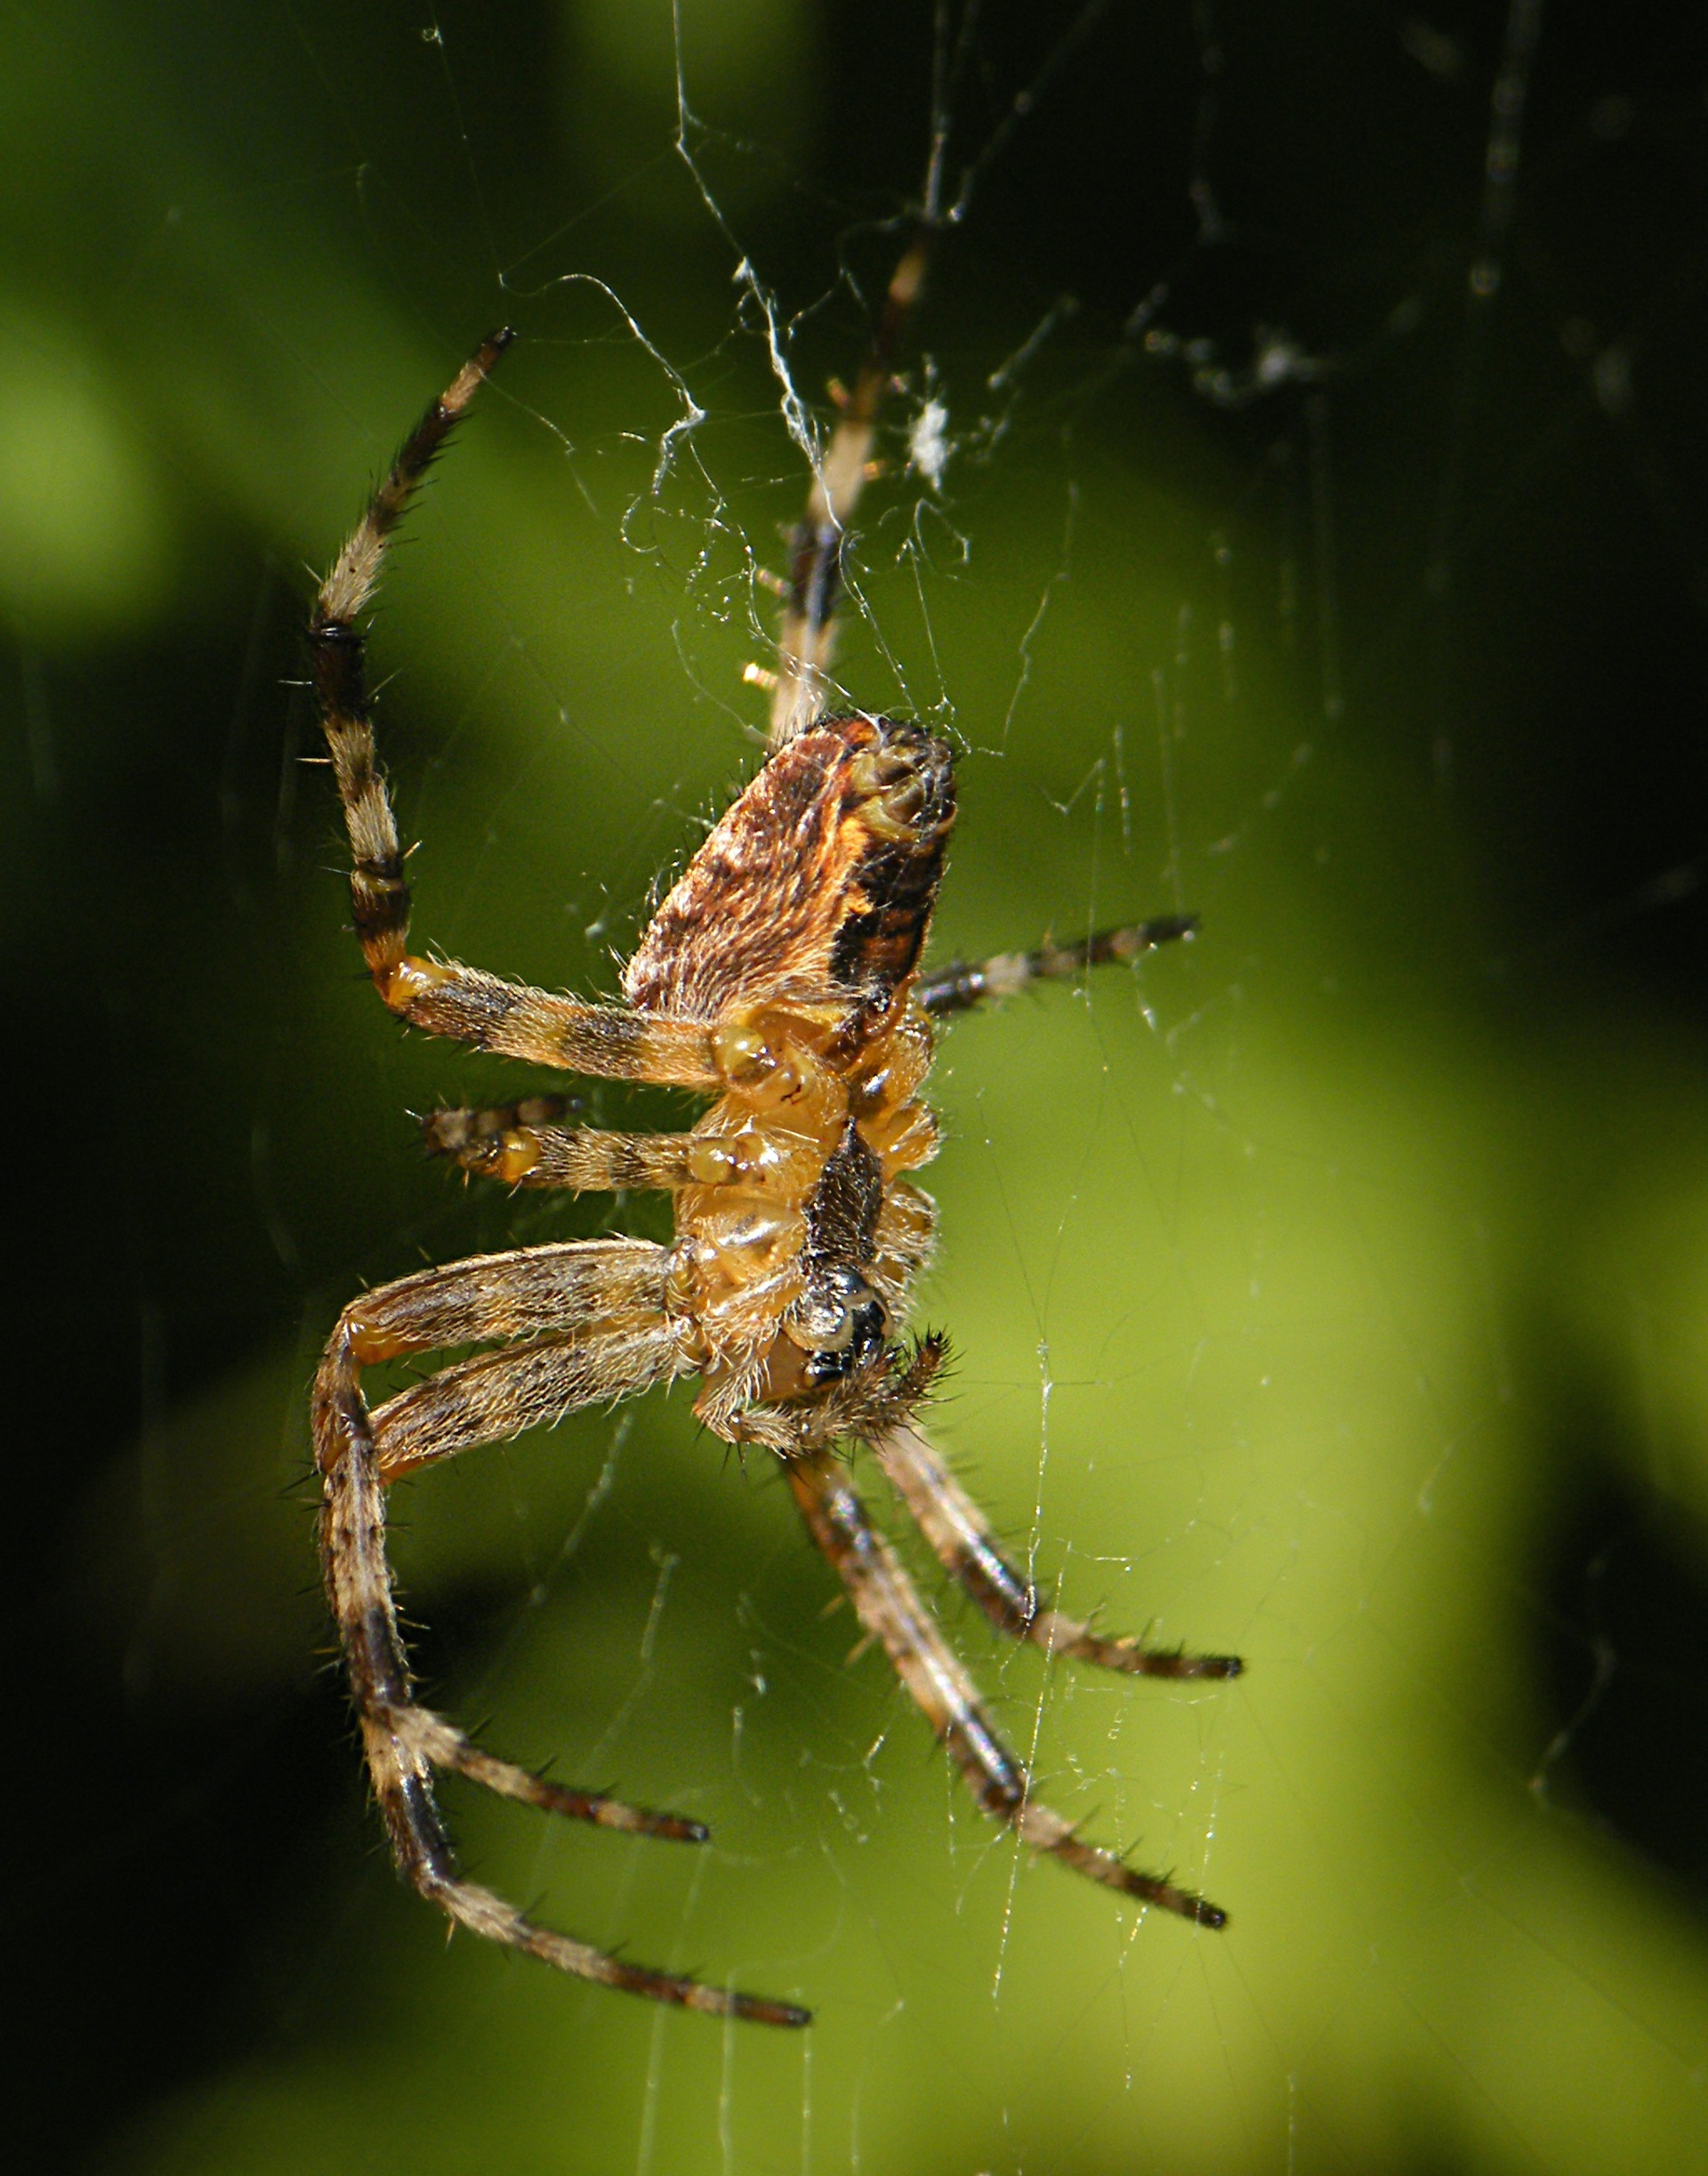spider: (237, 134, 1319, 2063)
